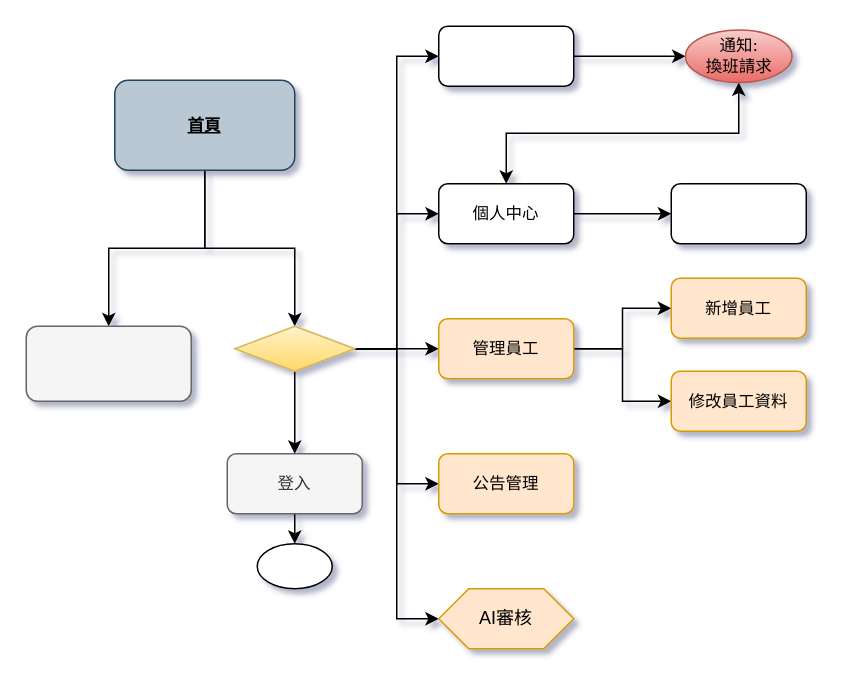
Some shapes in this 842 by 684 pixel diagram are drawn without their labels. Here are the shapes that lost their labels. From the top down, the centre of each, then its label:
(x=505, y=55): 班表
(x=738, y=213): 修改個人資料
(x=108, y=363): 公告
(x=294, y=348): 權限識別
(x=294, y=565): 登出
